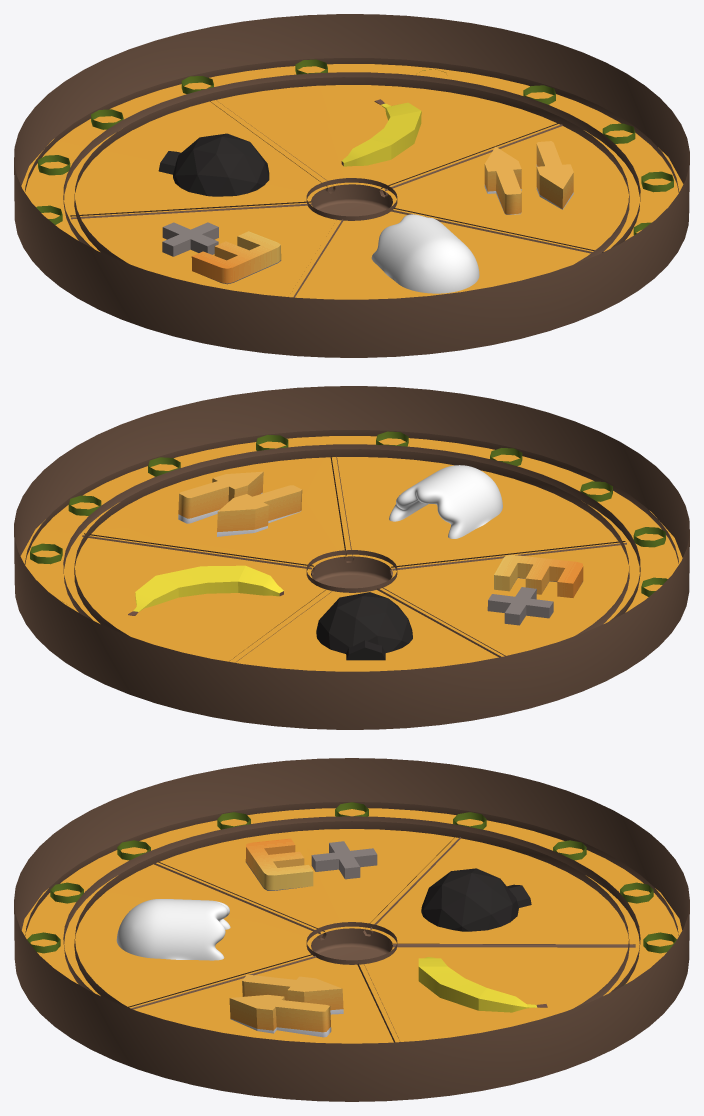
The model's file is item_roullet.glb.
The picture shows the model from 3 angles, top to bottom: view 1: azimuth 30°, elevation 25°; view 2: azimuth 150°, elevation 25°; view 3: azimuth 270°, elevation 25°; orthographic projection.
Visible parts, largest first — view 1: roulette, Body, Bomb, number-double-3, arrow.001, banana; view 2: roulette, arrow.001, Bomb, Body, number-double-3, banana; view 3: roulette, Body, arrow.001, Bomb, number-double-3, banana.
Part boxes in pixels (box(x1,y1,x2,y2)): roulette: box(14, 14, 689, 357); Body: box(371, 214, 479, 293); Bomb: box(158, 133, 269, 196); number-double-3: box(162, 222, 281, 284); arrow.001: box(484, 141, 573, 214); banana: box(341, 99, 421, 166); roulette: box(14, 386, 689, 729); arrow.001: box(178, 471, 302, 536); Bomb: box(316, 592, 412, 660); Body: box(389, 465, 502, 538); number-double-3: box(487, 555, 583, 625); banana: box(128, 565, 283, 615); roulette: box(14, 758, 689, 1101); Body: box(116, 899, 230, 960); arrow.001: box(229, 975, 343, 1037); Bomb: box(421, 868, 531, 931); number-double-3: box(245, 838, 377, 890); banana: box(418, 957, 547, 1012).
Bounding box in the file's own units: 5.01 × 0.8186 × 5.01.
10 materials, 4 textured.
